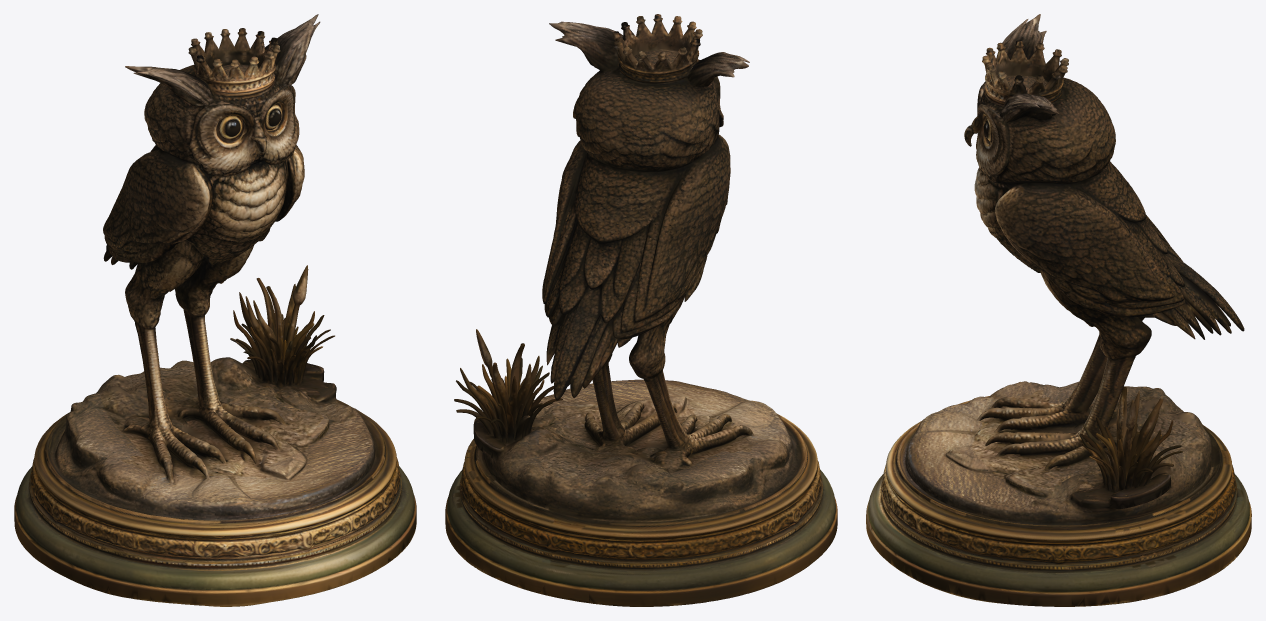
The picture shows the model from 3 angles, left to right: view 1: azimuth 30°, elevation 25°; view 2: azimuth 150°, elevation 25°; view 3: azimuth 270°, elevation 25°; orthographic projection. The views are drawn at different scales.
Visible parts, largest first — view 1: node_0; view 2: node_0; view 3: node_0.
Part boxes in pixels (box(x1,y1,x2,y2)): node_0: box(14, 14, 416, 606); node_0: box(445, 14, 837, 606); node_0: box(866, 14, 1251, 606).
Bounding box in the file's own units: 0.7146 × 0.9642 × 0.7152.
1 material, 1 textured.
